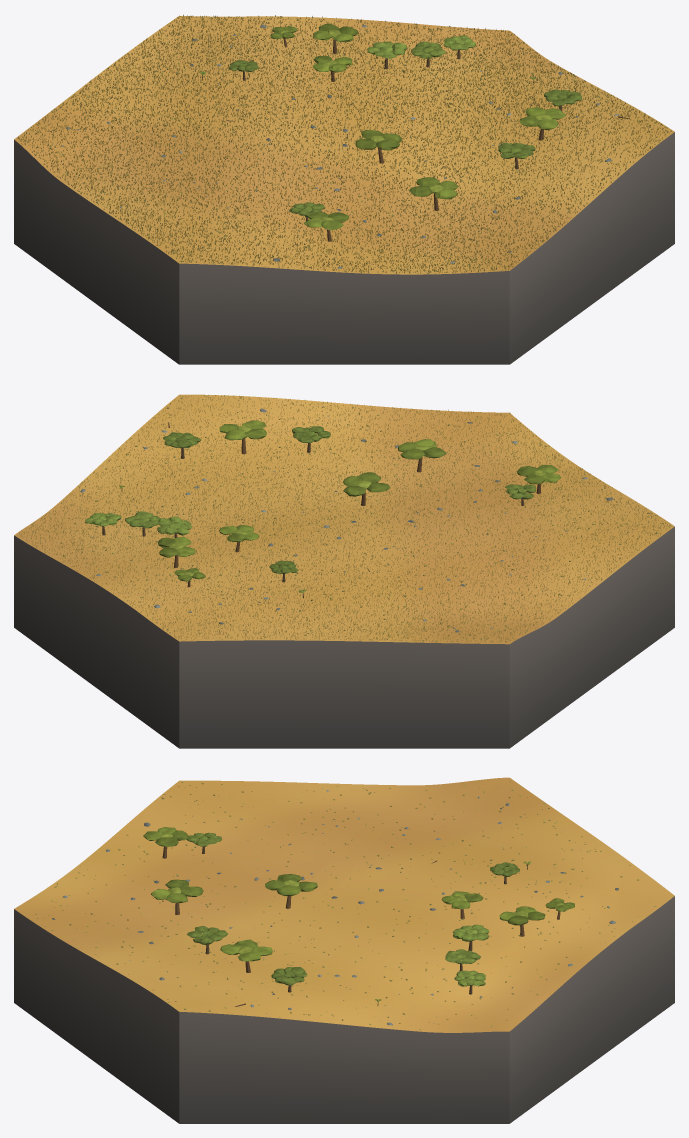
The picture shows the model from 3 angles, top to bottom: view 1: azimuth 30°, elevation 25°; view 2: azimuth 150°, elevation 25°; view 3: azimuth 270°, elevation 25°; orthographic projection.
Parts seen in each view (by area): view 1: terrain, hex_side_cut, wildflowers, broadleaf_canopy, shrubs, boulders, trunks; view 2: terrain, hex_side_cut, wildflowers, broadleaf_canopy, shrubs, boulders, trunks; view 3: terrain, hex_side_cut, broadleaf_canopy, shrubs, boulders, trunks.
Boxes of the visible parts, box(x1,y1,x2,y2) form: terrain: box(14, 15, 674, 274); hex_side_cut: box(14, 132, 674, 364); wildflowers: box(18, 14, 671, 273); broadleaf_canopy: box(199, 23, 581, 230); shrubs: box(22, 17, 667, 272); boulders: box(62, 24, 619, 268); trunks: box(202, 38, 562, 241); terrain: box(14, 394, 674, 644); hex_side_cut: box(14, 526, 674, 748); wildflowers: box(19, 394, 671, 642); broadleaf_canopy: box(85, 420, 561, 592); shrubs: box(33, 395, 670, 642); boulders: box(67, 408, 613, 632); trunks: box(102, 438, 540, 598); terrain: box(14, 777, 674, 1032); hex_side_cut: box(14, 896, 674, 1123); broadleaf_canopy: box(143, 827, 574, 1001); shrubs: box(35, 781, 656, 1029); boulders: box(45, 790, 618, 1025); trunks: box(162, 846, 560, 1005).
Bounding box in the file's own units: 4330 × 1076 × 5000.
